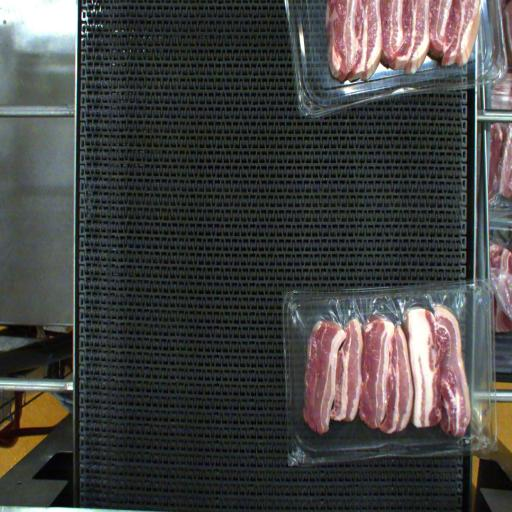unsealed: (296, 294, 484, 451)
